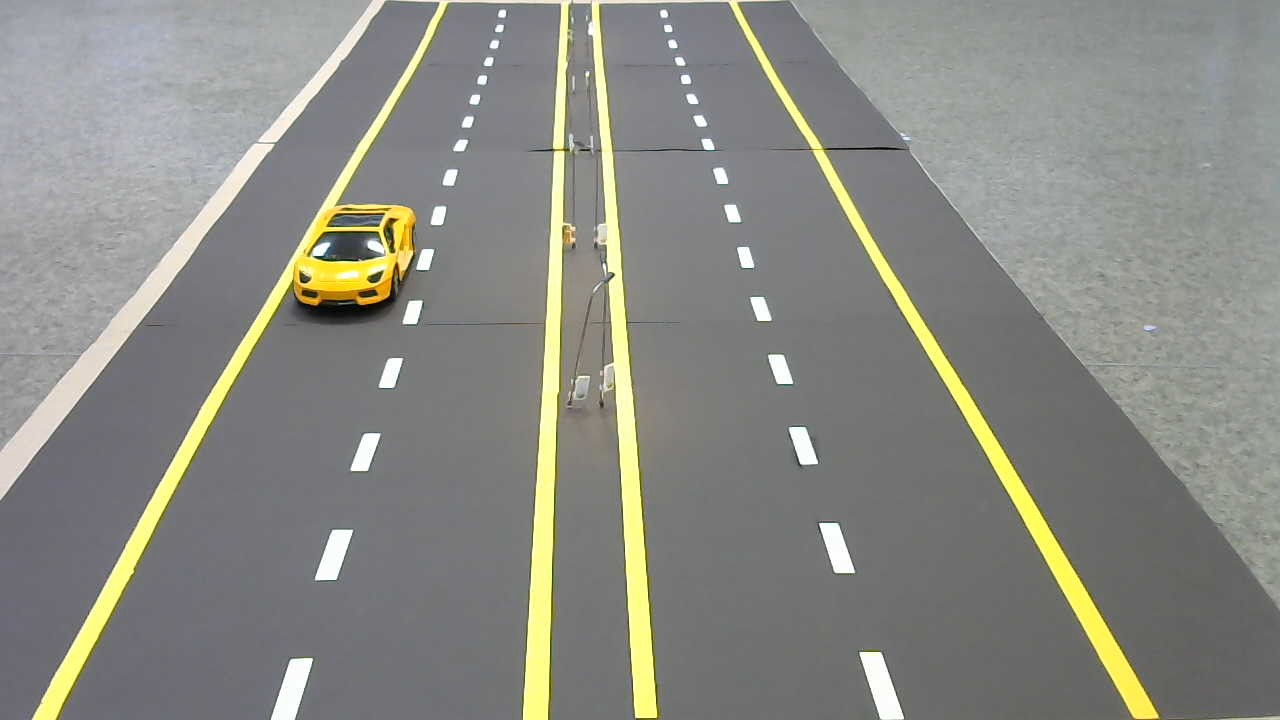front_car: (291, 198, 420, 325)
